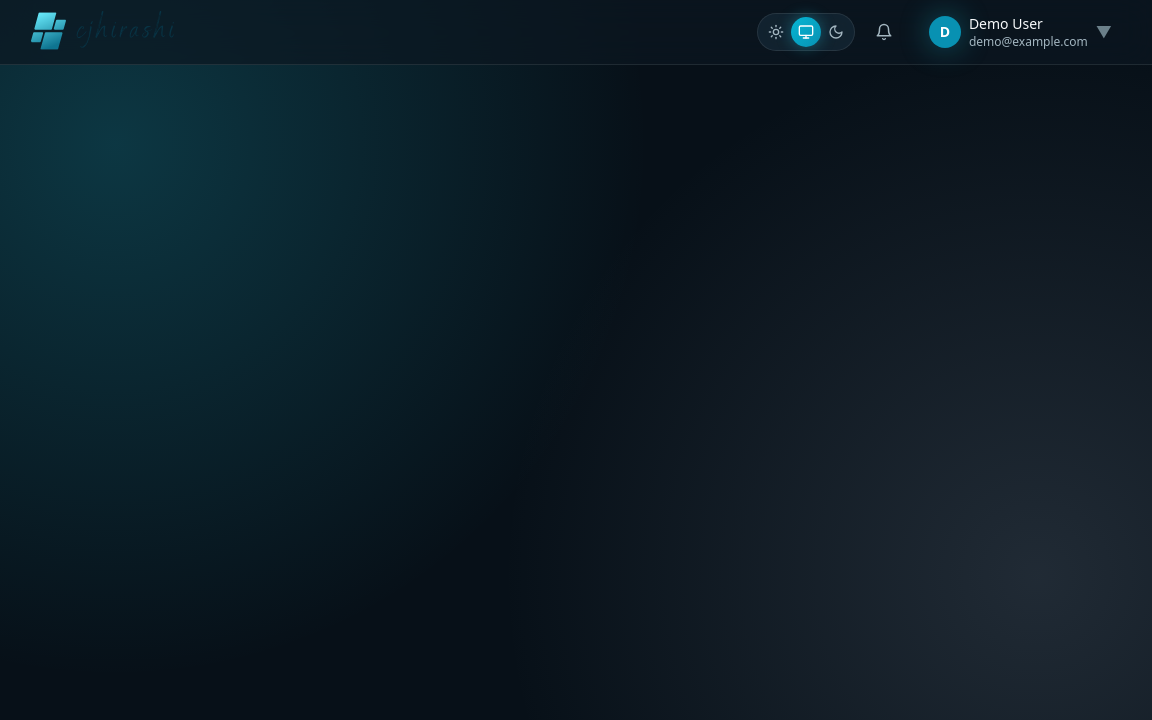
Test: Navbar › dropdown menu › should close dropdown when clicked again
Click the button with aria-label "User menu": (1020, 32) [913,6,1128,58]
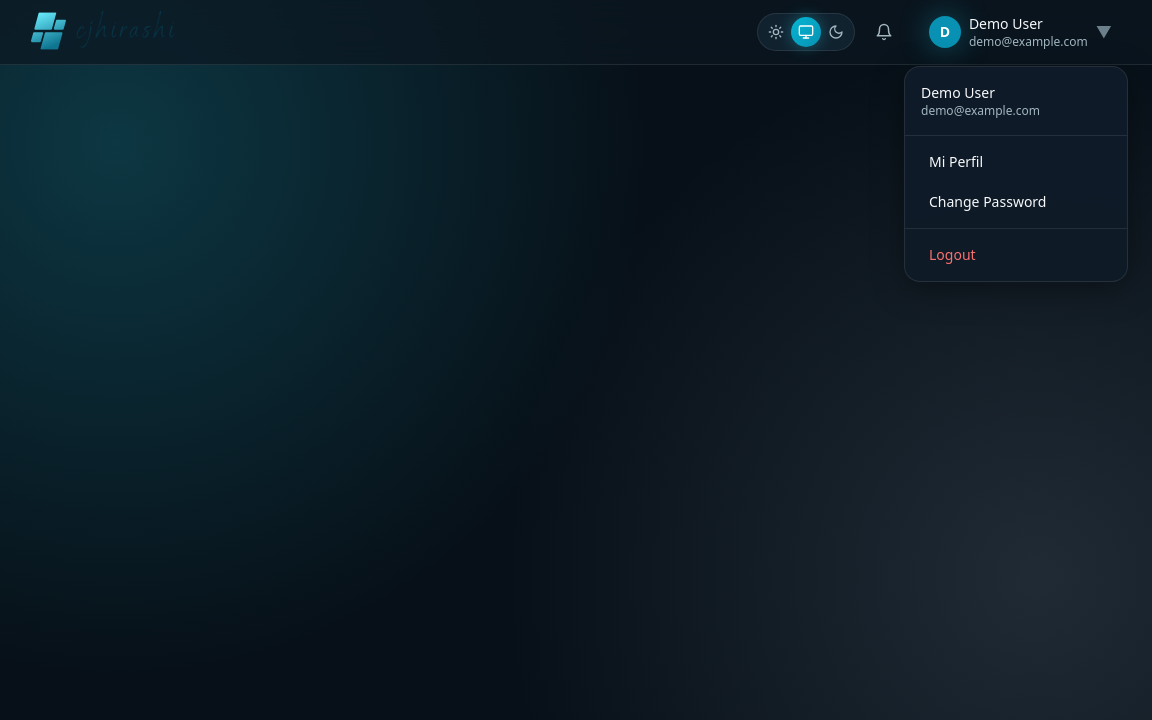
Now the link "Change Password" is shown, box [929,192,1046,211]
Click the button with aria-label "User menu": (1020, 32) [913,6,1128,58]
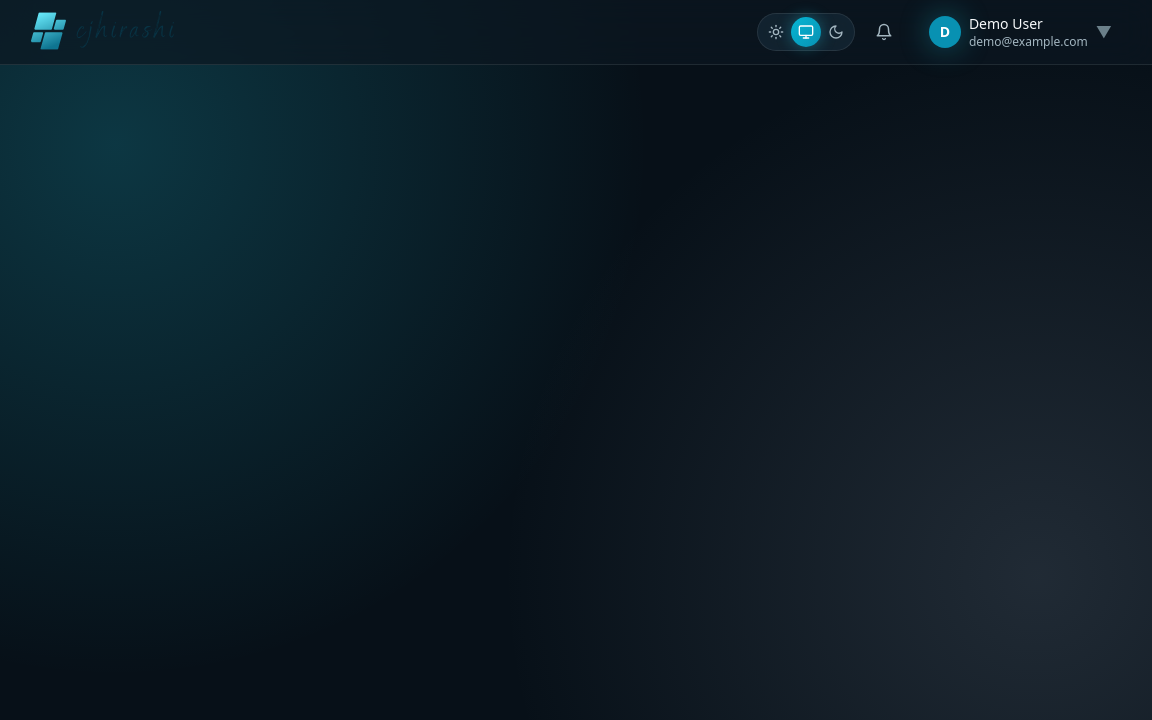
Now the link "Change Password" is gone
